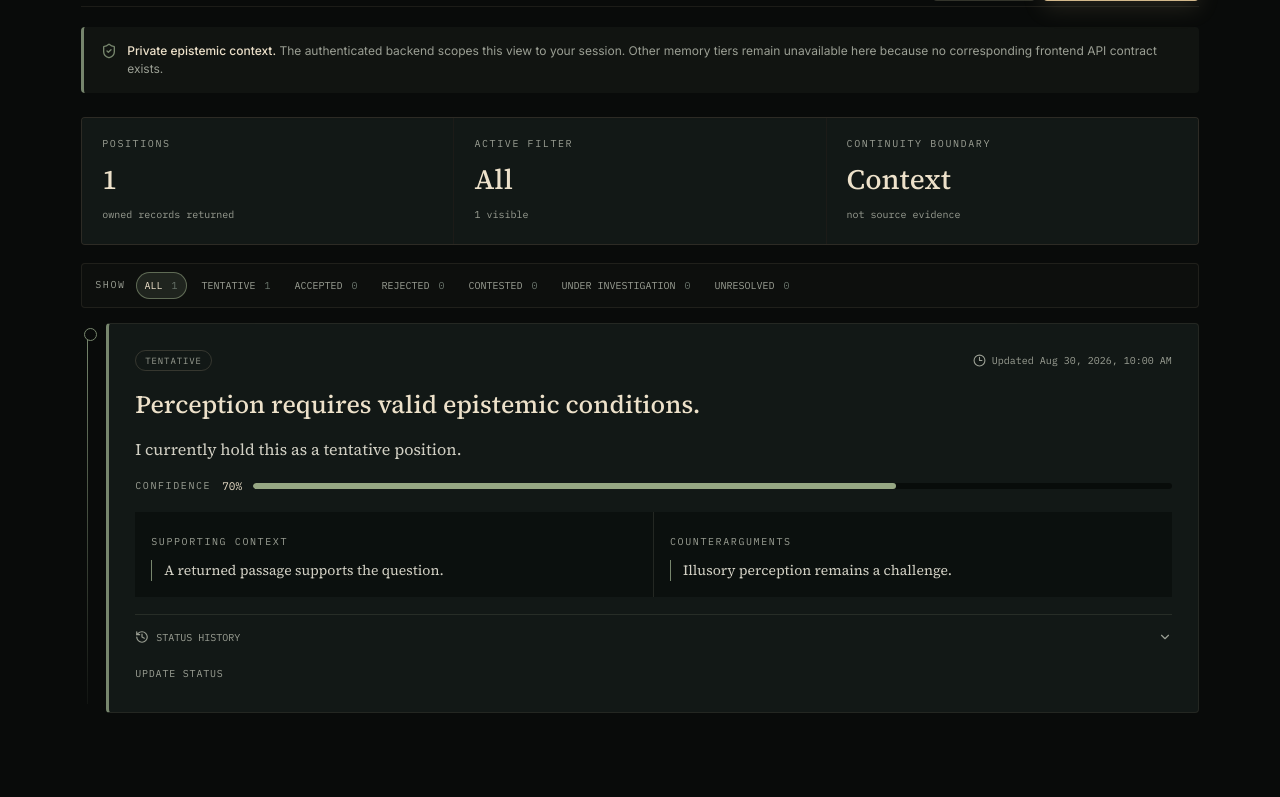
Scenario: memory and understanding view › updates status through the existing ownership-checked endpoint
(page scrolled)
expect the heading "Perception requires valid epistemic conditions." is shown: met, box left=135, top=387, right=700, bottom=421
Click the button "Update status": point(179, 674) left=135, top=661, right=1172, bottom=686
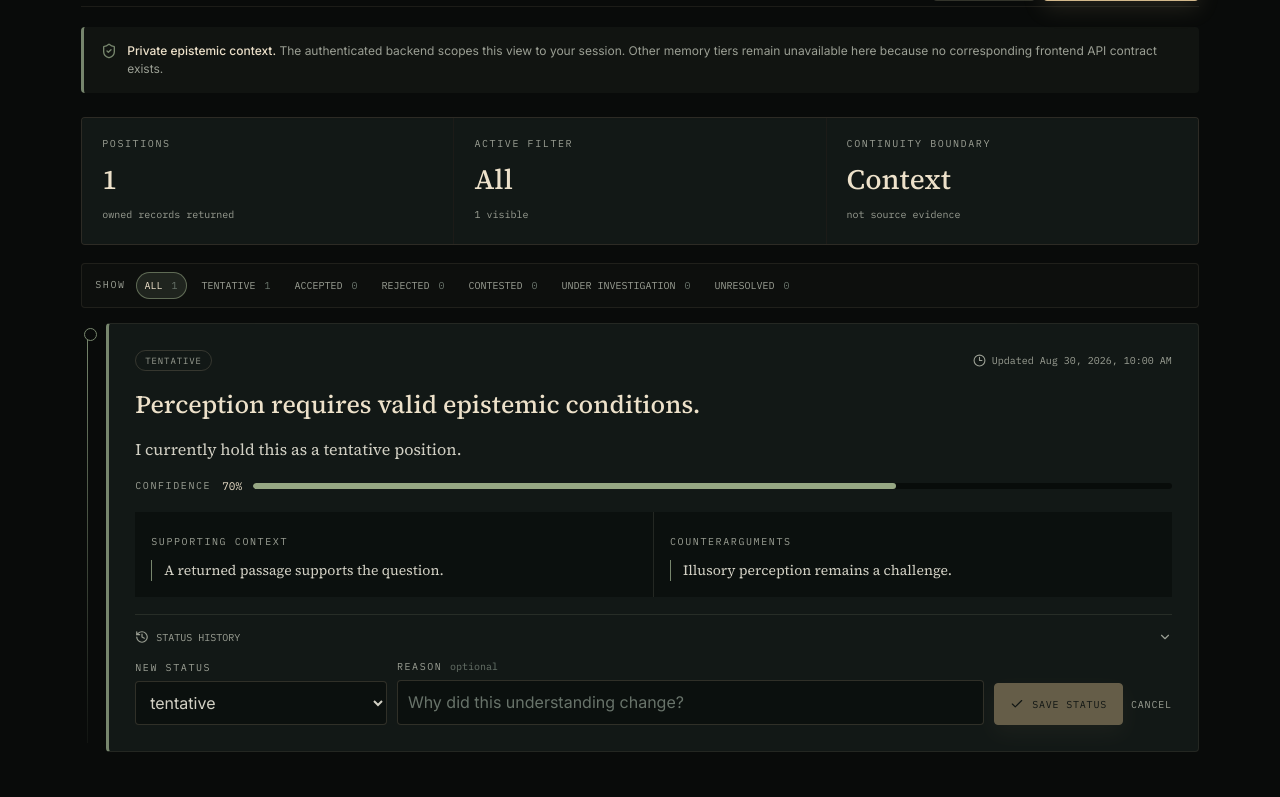
Select "contested" in the dropdown labelled "New status": point(261, 703) left=135, top=681, right=387, bottom=725
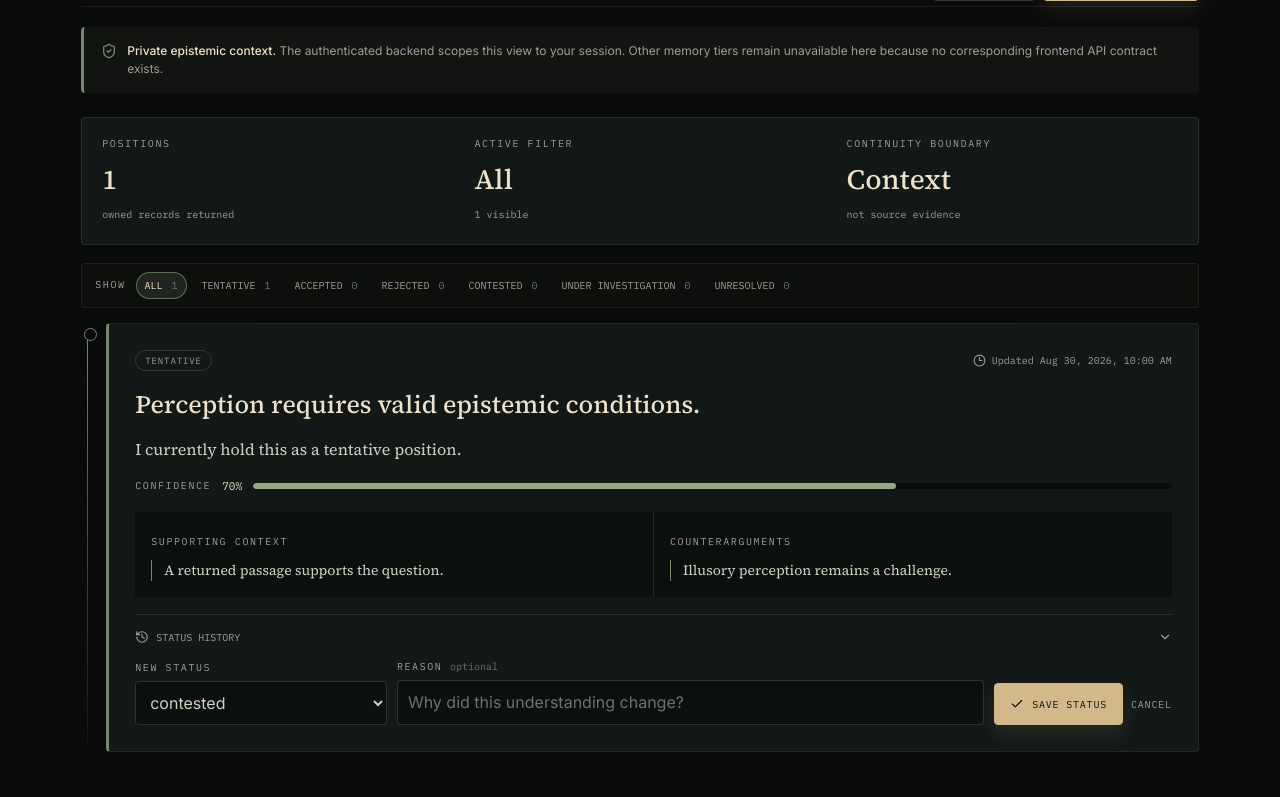
In the field labelled "Reason optional": point(691, 703) left=397, top=680, right=984, bottom=725, type "Counterargument requires review."
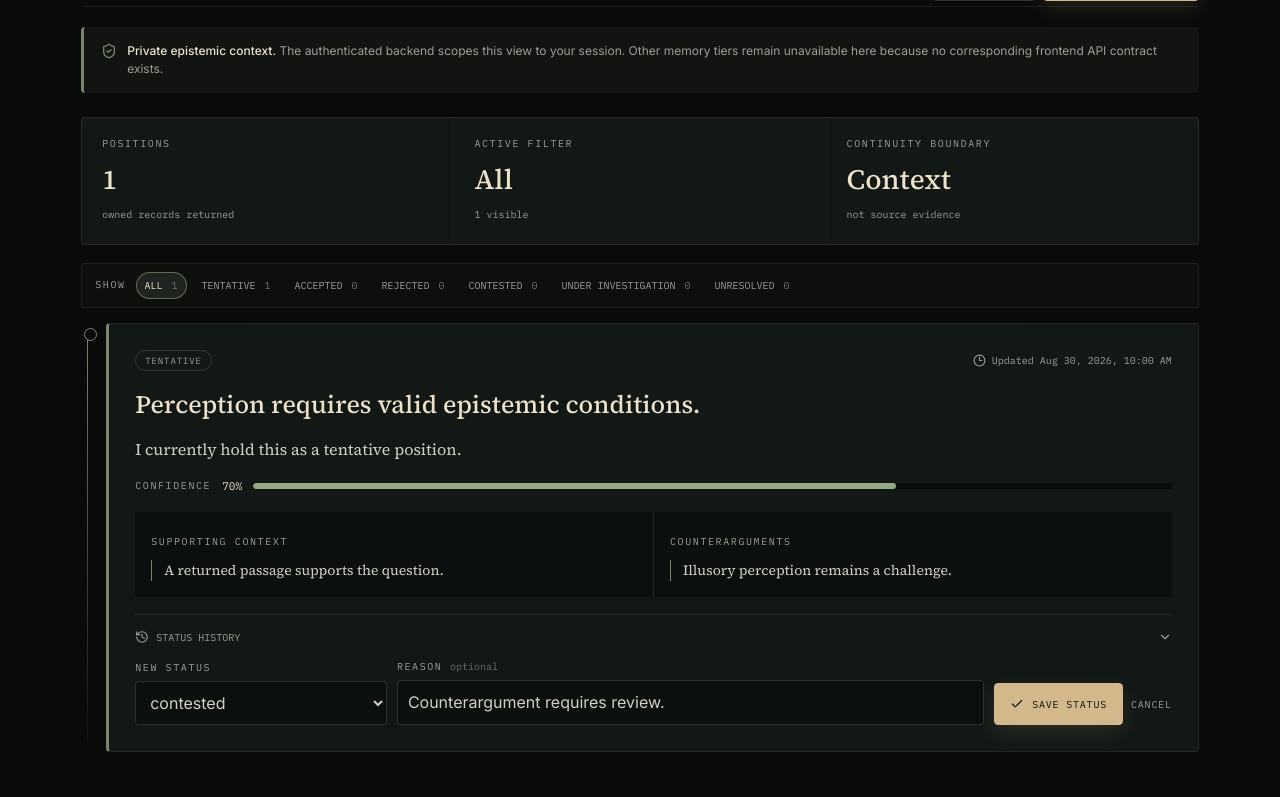
Click the button "Save status": point(1059, 704) left=994, top=683, right=1123, bottom=725
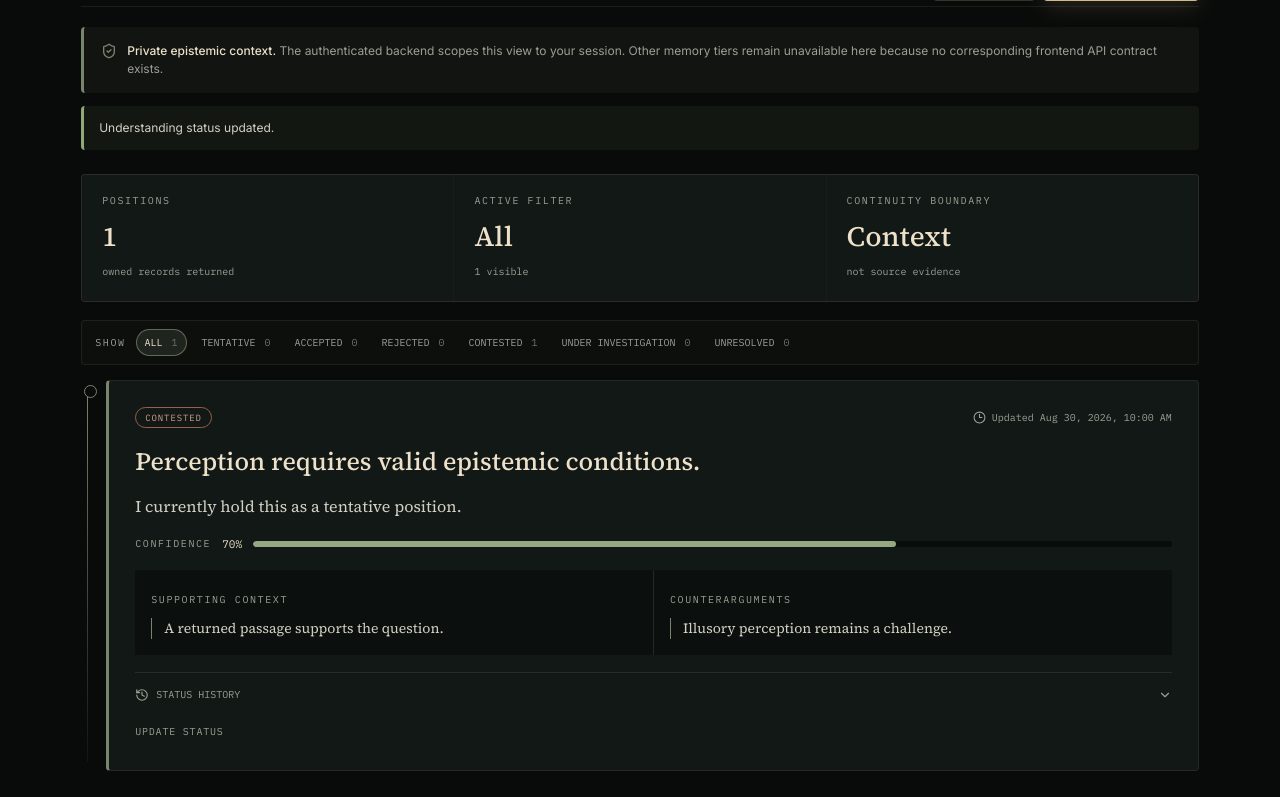
expect the text "Understanding status updated." is shown: met, box left=81, top=106, right=1199, bottom=150
